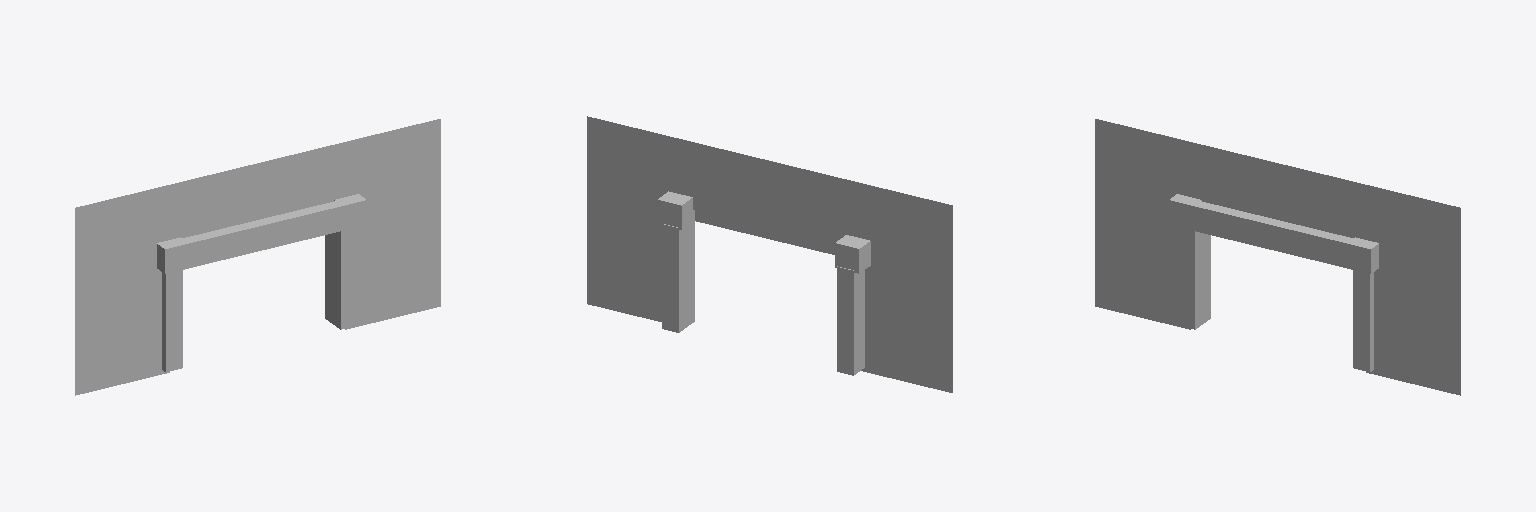
File: theater.obj
3 views of the same model, side by side, from view 1: azimuth 30°, elevation 25°; view 2: azimuth 150°, elevation 25°; view 3: azimuth 330°, elevation 25° (orthographic).
Visible parts, largest first — view 1: BlackTheater_Theater; view 2: BlackTheater_Theater; view 3: BlackTheater_Theater.
Part boxes in pixels (bbox=[...]): BlackTheater_Theater: bbox=[75, 119, 440, 395]; BlackTheater_Theater: bbox=[587, 116, 952, 392]; BlackTheater_Theater: bbox=[1095, 119, 1460, 395].
Size of the model in its own units: 24.54 by 12.04 by 2.35.